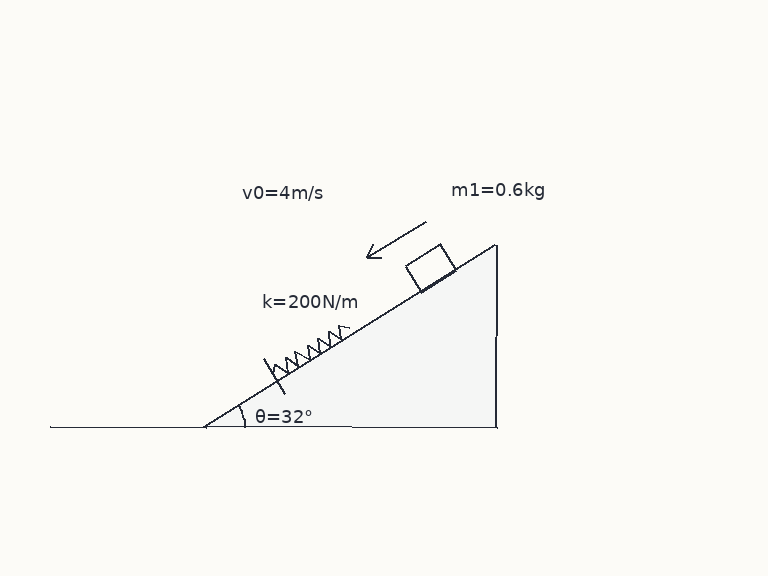block: (403, 242, 458, 294)
ramp: (203, 243, 498, 429)
spring: (271, 322, 351, 376)
